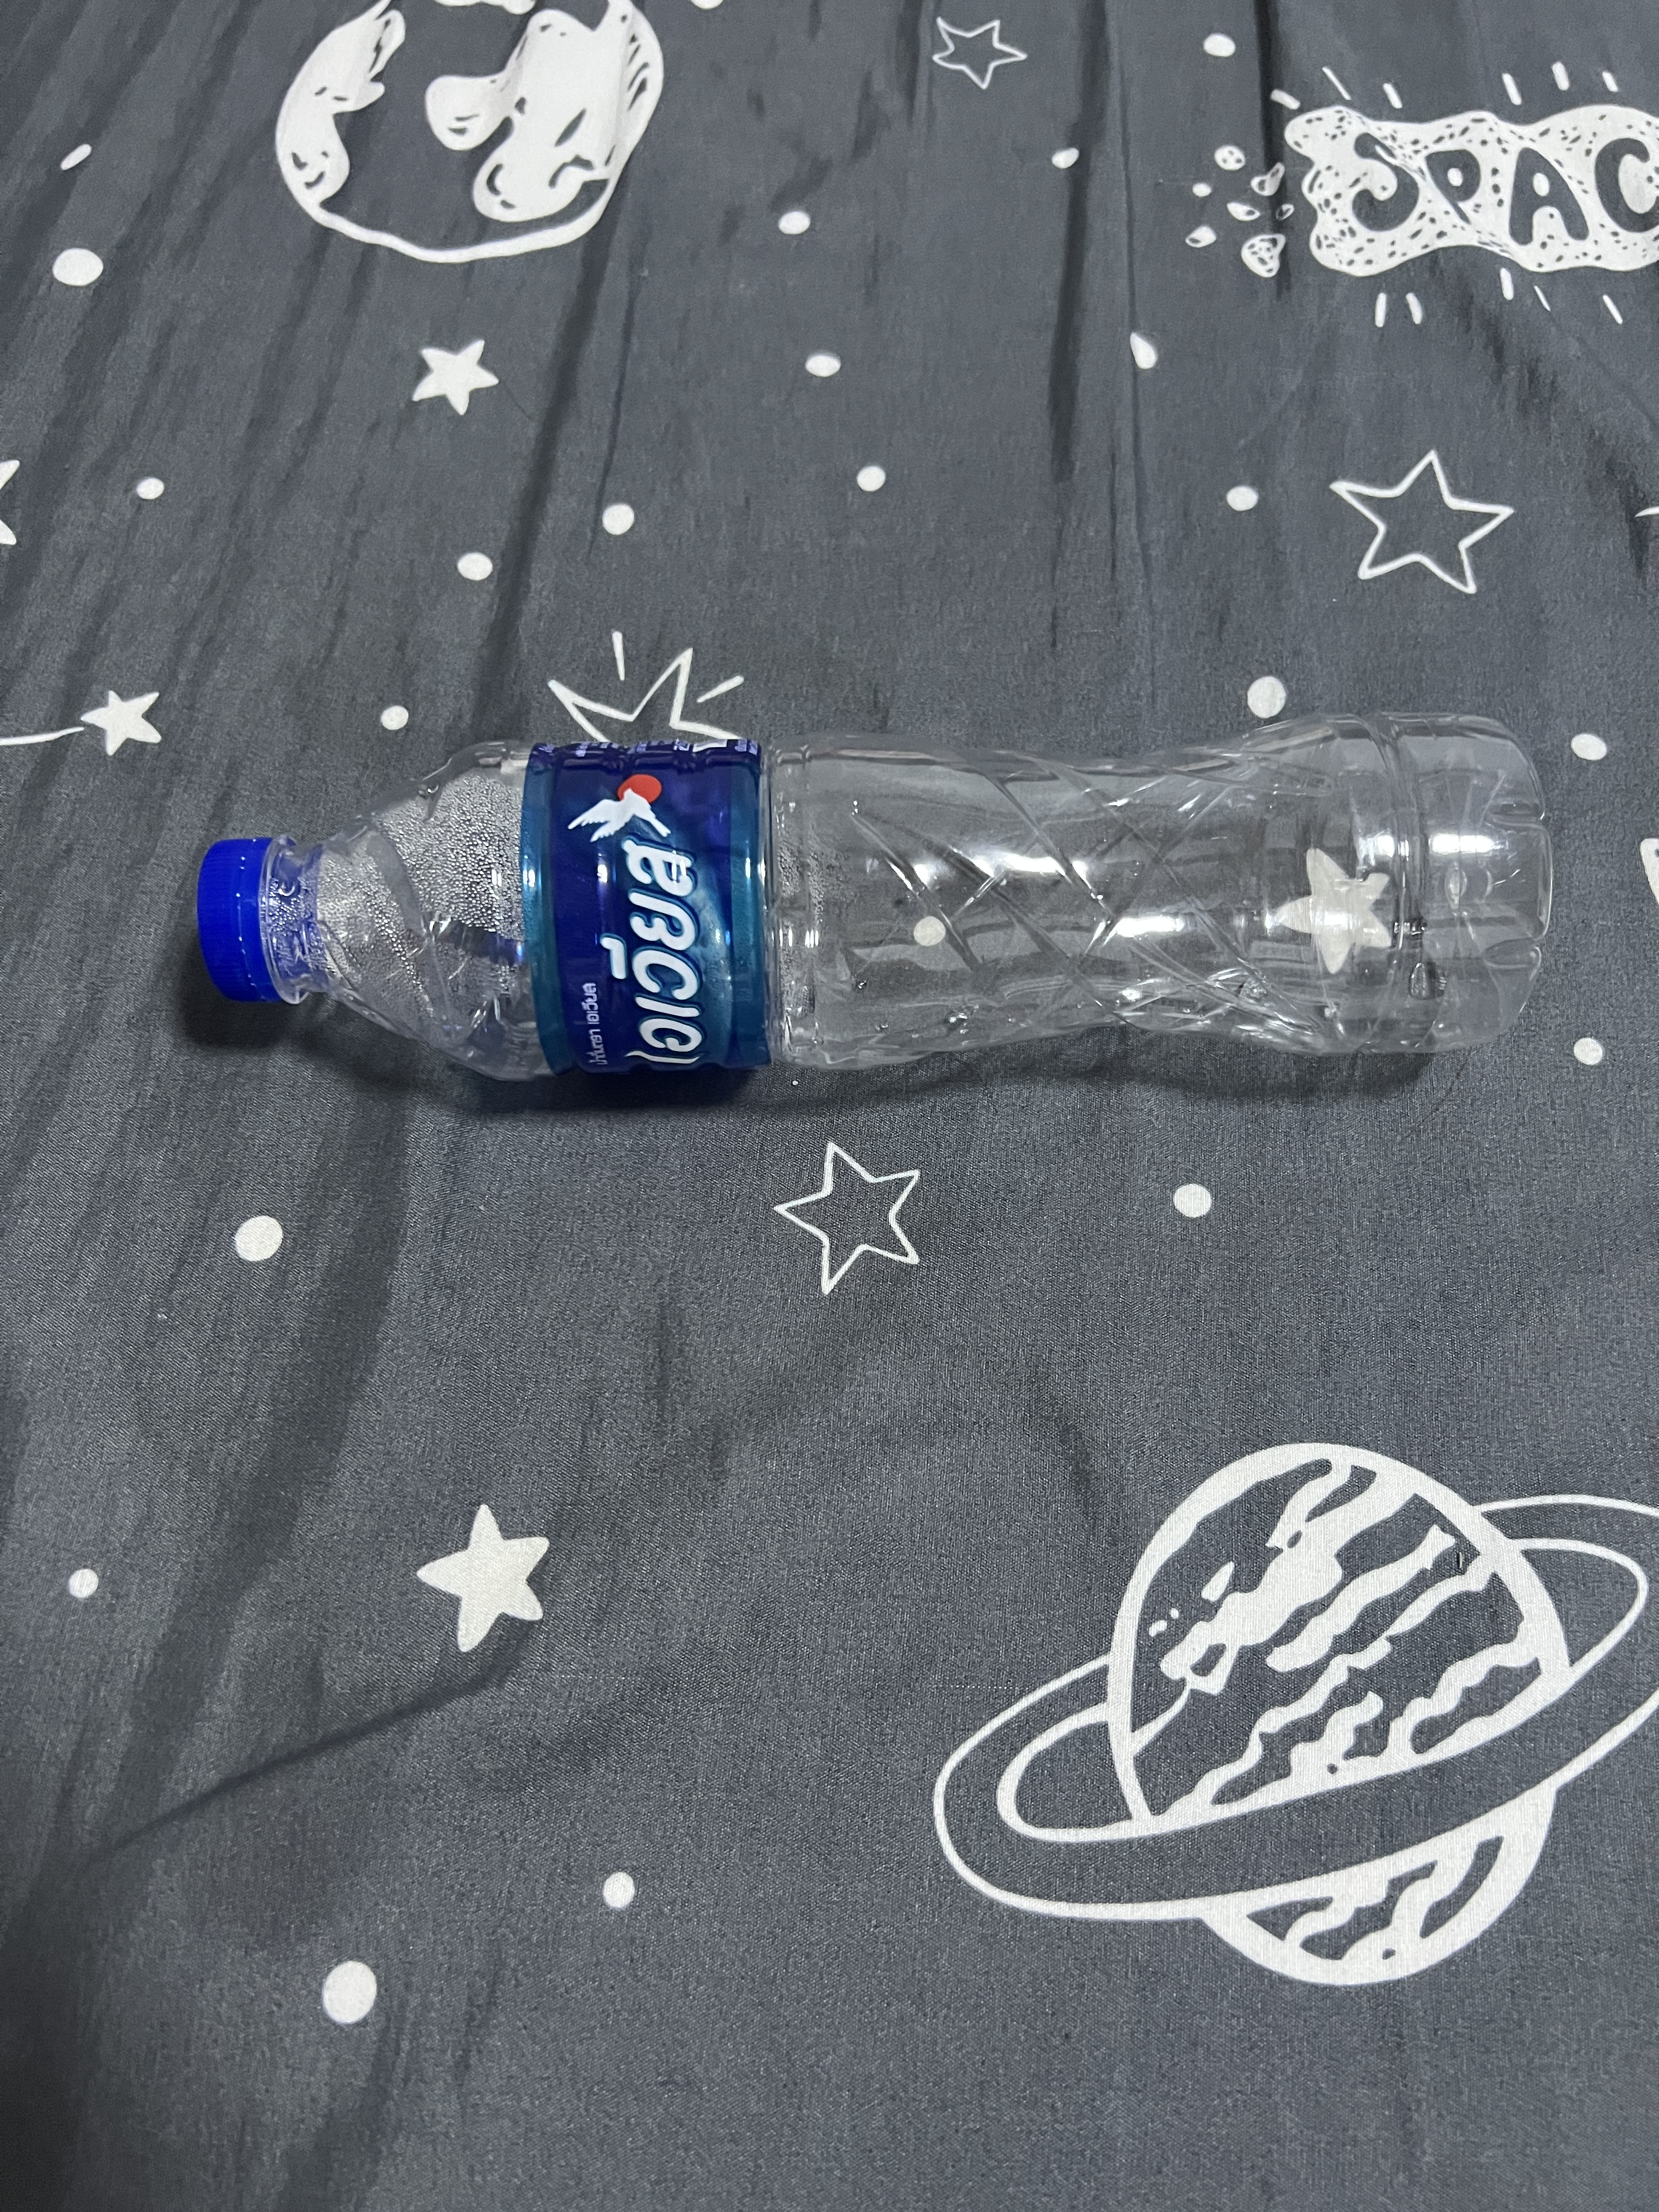plastic_bottle: (160, 650, 1577, 1177)
